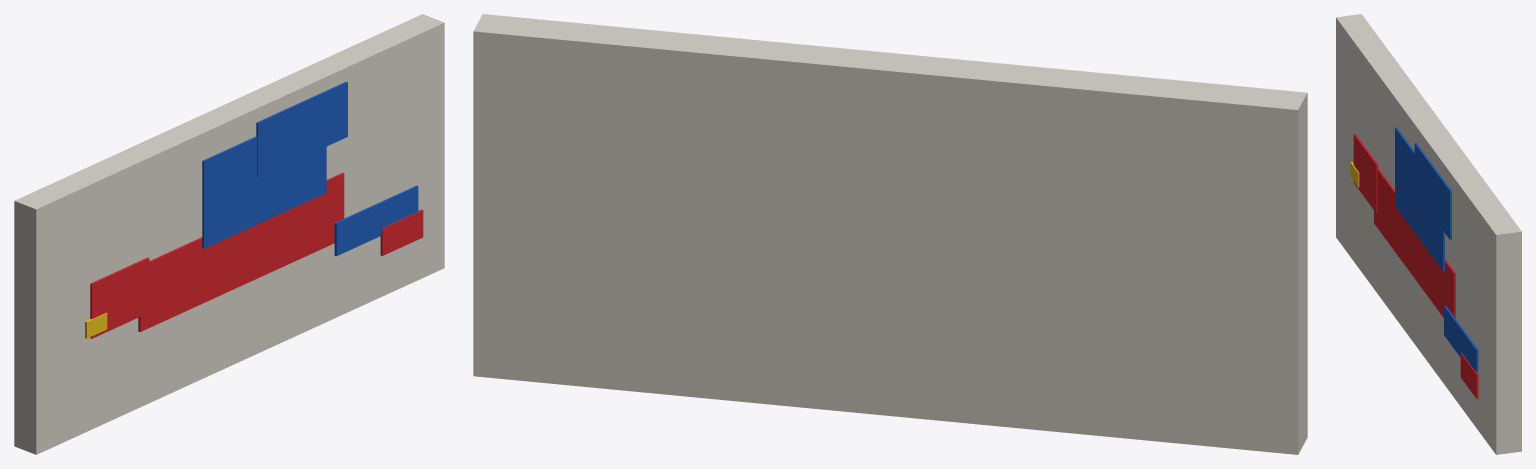
The model's file is sn_dragon.glb.
The picture shows the model from 3 angles, left to right: view 1: azimuth 30°, elevation 25°; view 2: azimuth 150°, elevation 25°; view 3: azimuth 270°, elevation 25°; orthographic projection. The views are drawn at different scales.
Visible parts, largest first — view 1: sn_dragon_lod0; view 2: sn_dragon_lod0; view 3: sn_dragon_lod0.
Part boxes in pixels (x1,y1,x2,y2): sn_dragon_lod0: (14,14,444,454); sn_dragon_lod0: (473,14,1307,454); sn_dragon_lod0: (1336,14,1521,454).
Size of what is drawn, in the model's own units: 9.7 by 4.5 by 3.45.
